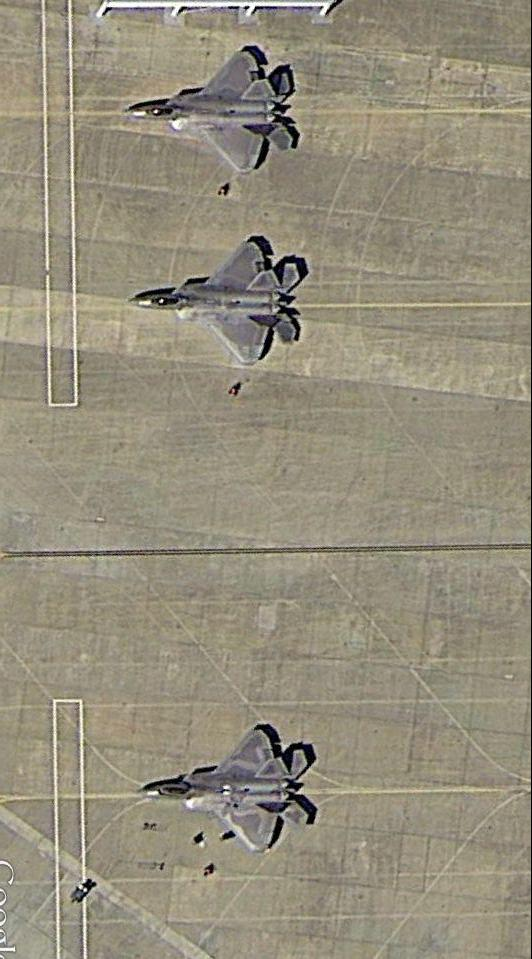F-22: (125, 231, 306, 370), (139, 721, 318, 858), (124, 44, 297, 178)
